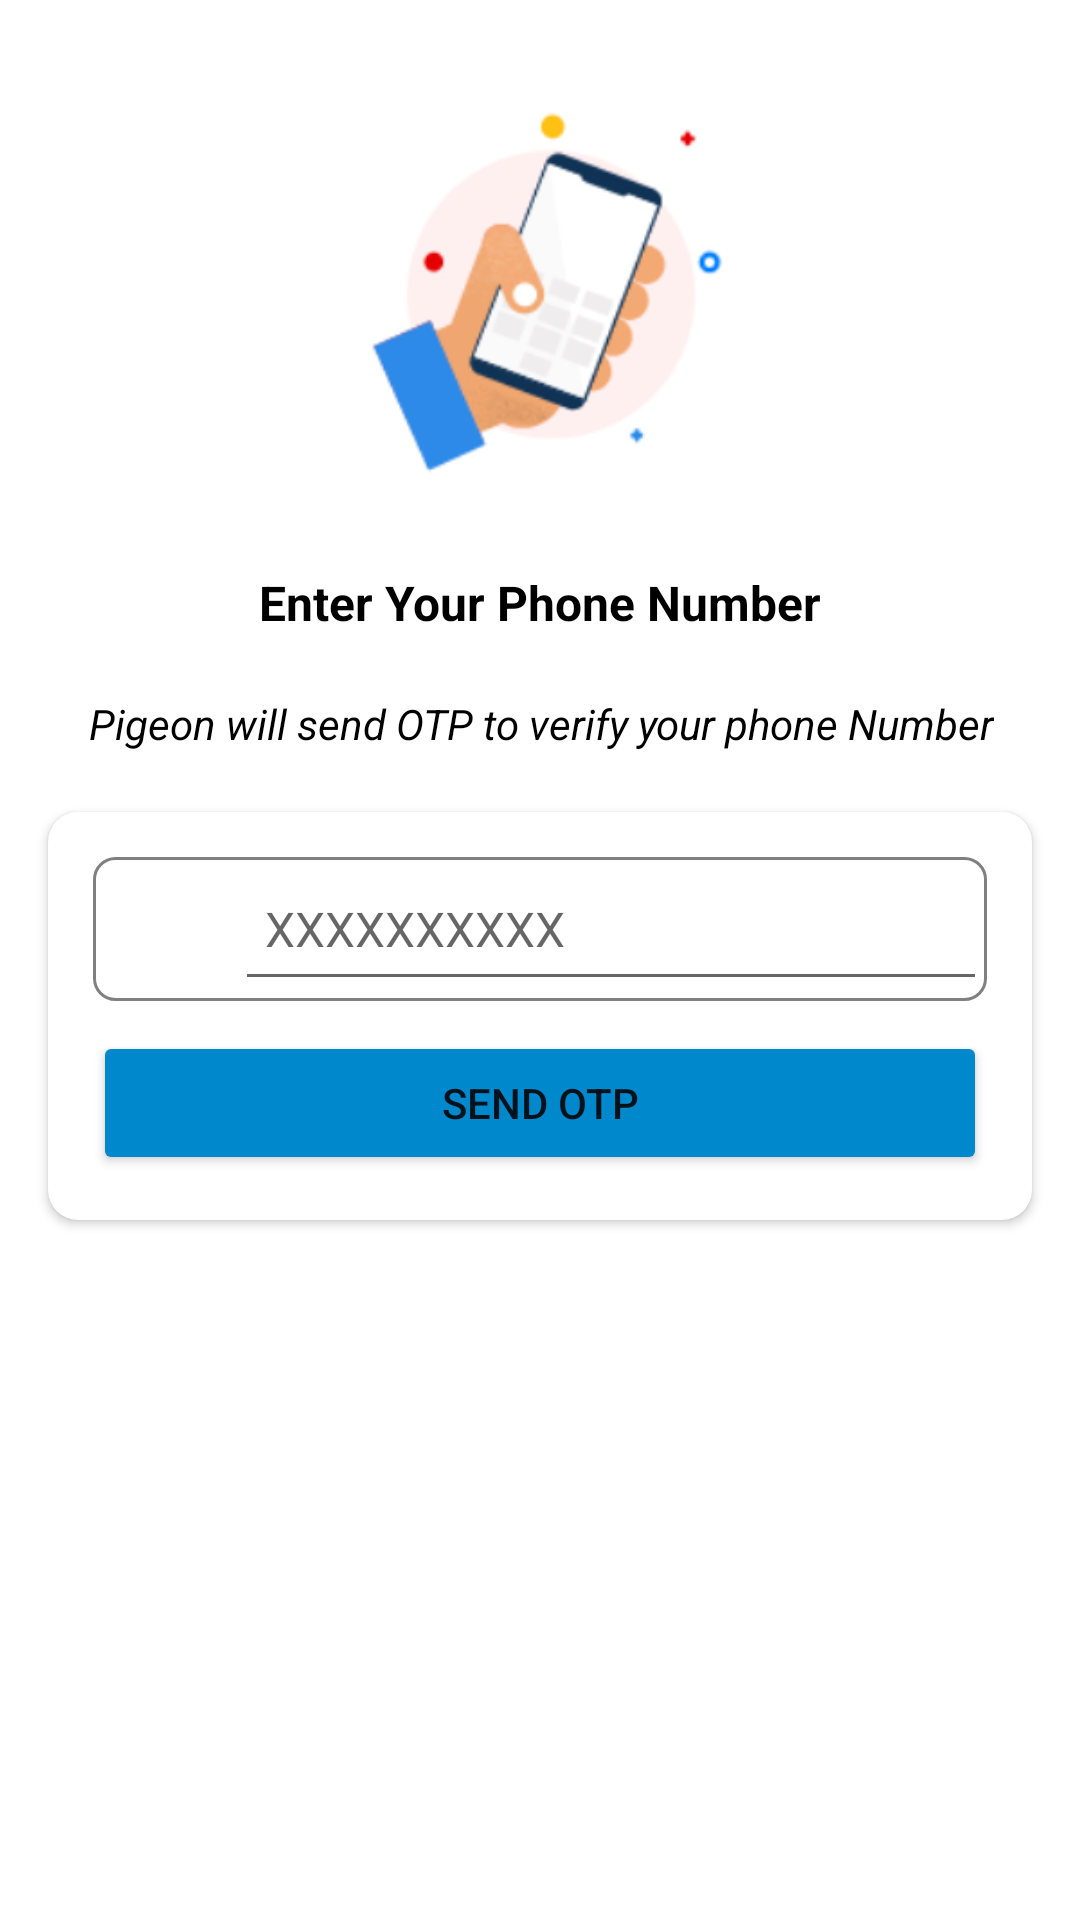

Where icons sit on this 1080 x 1920 app screen, as [left=x1, top=y1, right=x2, bottom=y2]:
phone login: [left=372, top=113, right=722, bottom=472]
